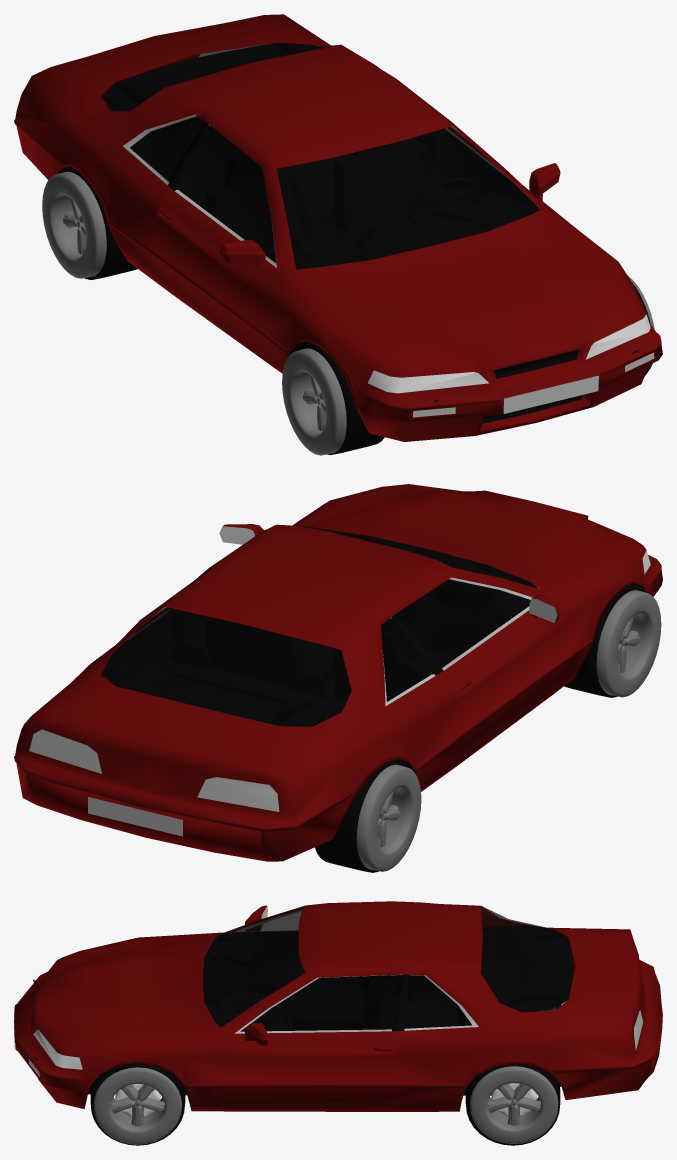
File: legend.fbx
3 renders of one model, top to bottom at view 1: azimuth 30°, elevation 25°; view 2: azimuth 150°, elevation 25°; view 3: azimuth 270°, elevation 25°, orthographic. The views are drawn at different scales.
Visible parts, largest first — view 1: carro, legend interior.001, legend front seats.001, legend rear seats.001, WFRONTRH, WREARRH, legend mirrors.001, plate.001, legend steering wheel.001; view 2: carro, legend interior.001, legend front seats.001, WREARRH, WFRONTRH, legend rear seats.001, plate.001, legend mirrors.001; view 3: carro, legend interior.001, WFRONTLH, WREARLH, legend front seats.001, legend rear seats.001, legend mirrors.001, legend steering wheel.001.
Boxes of the visible parts, box(x1,y1,x2,y2) form: carro: box(14, 14, 662, 441); legend interior.001: box(103, 42, 539, 269); legend front seats.001: box(205, 140, 440, 261); legend rear seats.001: box(130, 116, 351, 227); WFRONTRH: box(282, 342, 384, 455); WREARRH: box(42, 167, 137, 279); legend mirrors.001: box(219, 163, 639, 401); plate.001: box(503, 375, 598, 413); legend steering wheel.001: box(408, 176, 481, 223); carro: box(14, 484, 662, 861); legend interior.001: box(103, 530, 537, 726); legend front seats.001: box(205, 616, 431, 701); WREARRH: box(315, 760, 421, 872); WFRONTRH: box(564, 584, 661, 697); legend rear seats.001: box(117, 640, 346, 726); plate.001: box(88, 797, 182, 836); legend mirrors.001: box(219, 524, 560, 622); carro: box(14, 901, 662, 1111); legend interior.001: box(203, 924, 573, 1031); WFRONTLH: box(90, 1063, 185, 1145); WREARLH: box(465, 1064, 560, 1145); legend front seats.001: box(288, 975, 392, 1030); legend rear seats.001: box(414, 929, 515, 1028); legend mirrors.001: box(33, 905, 267, 1060); legend steering wheel.001: box(259, 987, 293, 1030).
Size of the model in its own units: 230 by 129 by 486.
